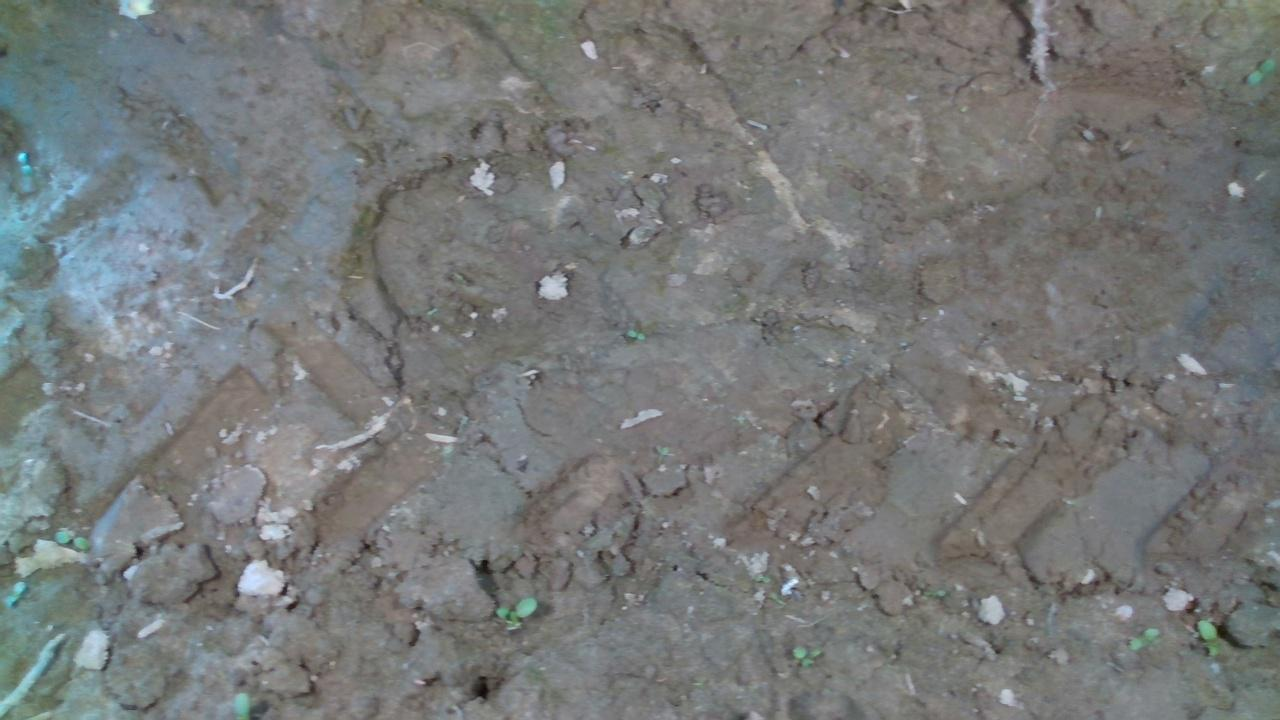weed: (1195, 617, 1220, 657), (1244, 57, 1274, 85), (1127, 625, 1160, 650), (1, 578, 26, 609), (53, 530, 93, 549), (14, 149, 33, 179)
